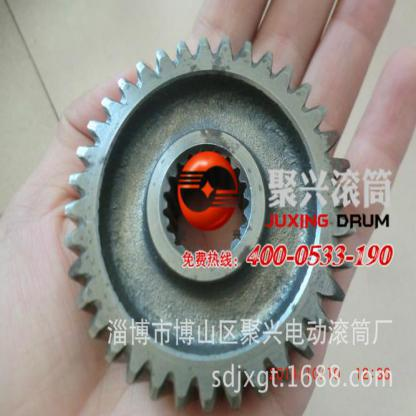FOD: (60, 34, 358, 415)
